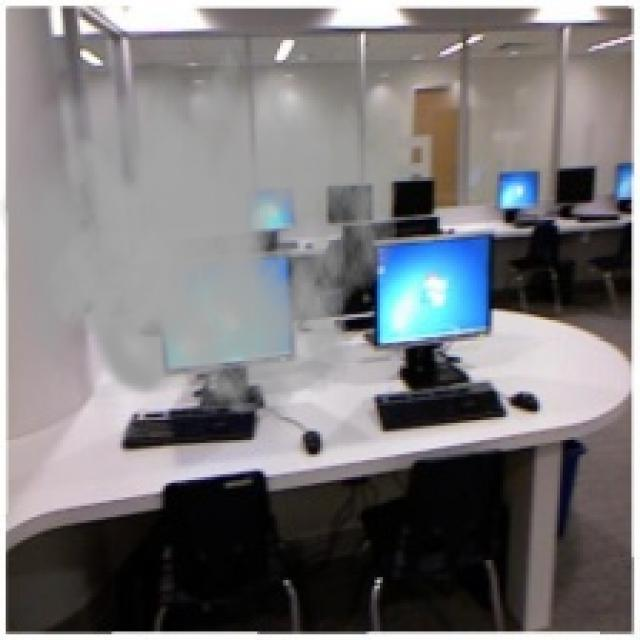Smoke: (0, 26, 400, 428)
